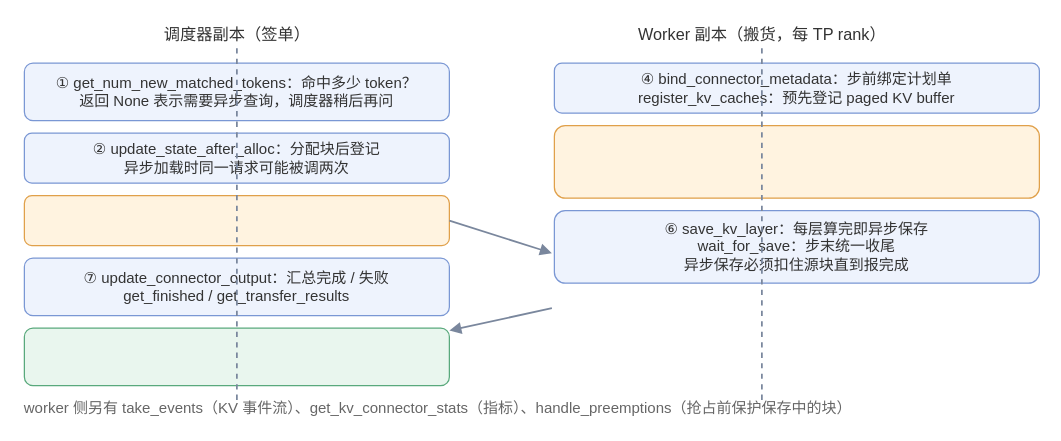
Image size: 1061x441. Some labels were removed from this diagram. The shapes that lost their labels are listed below. From the top down, each one's box as (x1, y1, x2, y2) in pixels, then its label:
(553, 124, 1039, 198): ⑤ start_load_kv：forward 前启动异步加载 wait_for_layer_load：每层 attention 前逐层等 加载与上层计算重叠
(23, 194, 449, 246): ③ build_connector_meta：本步搬运计划 → Metadata 随 SchedulerOutput 下发
(23, 327, 449, 386): ⑧ request_finished：接管块异步保存，可附参数 get_finished 归还后块才真正释放
